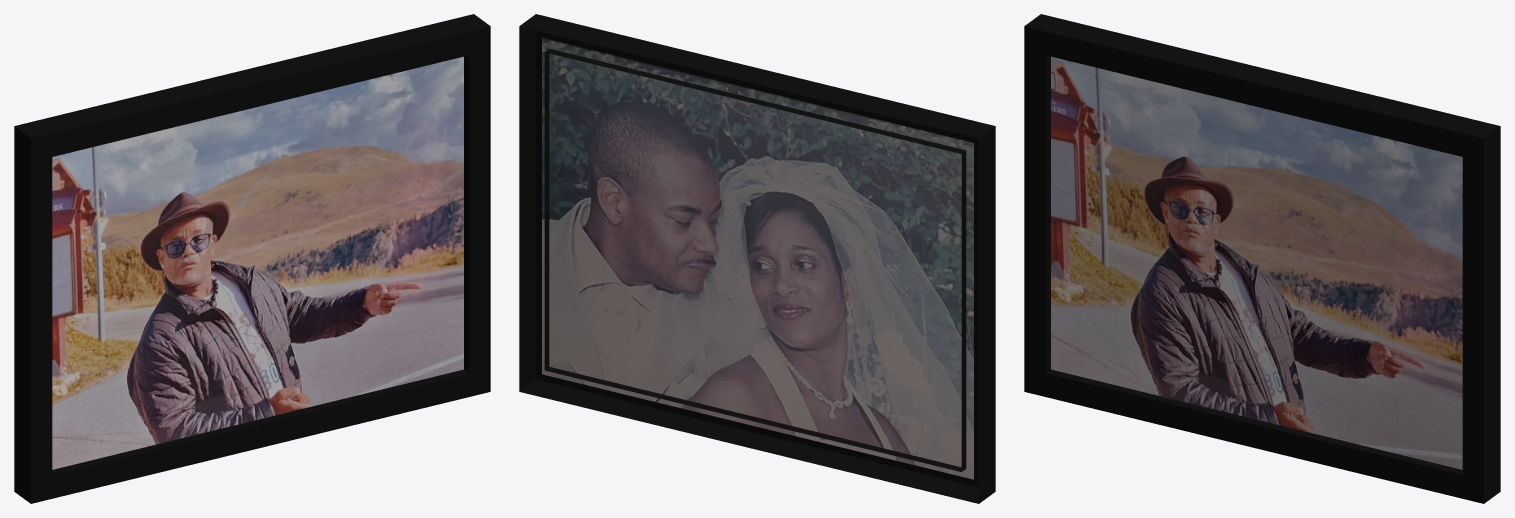
File: Dad Picture 02.fbx
The picture shows the model from 3 angles, left to right: view 1: azimuth 30°, elevation 25°; view 2: azimuth 150°, elevation 25°; view 3: azimuth 330°, elevation 25°; orthographic projection.
Visible parts, largest first — view 1: picture02.002, Dad Picture 02.002; view 2: picture03.001, Dad Picture 02.002; view 3: picture02.002, Dad Picture 02.002.
Boxes of the visible parts, box(x1,y1,x2,y2) form: picture02.002: box(52, 56, 463, 469); Dad Picture 02.002: box(14, 14, 490, 503); picture03.001: box(542, 37, 973, 479); Dad Picture 02.002: box(519, 14, 995, 503); picture02.002: box(1051, 56, 1462, 469); Dad Picture 02.002: box(1024, 14, 1500, 503).
Bounding box in the file's own units: 1.57 × 1.19 × 0.1.
